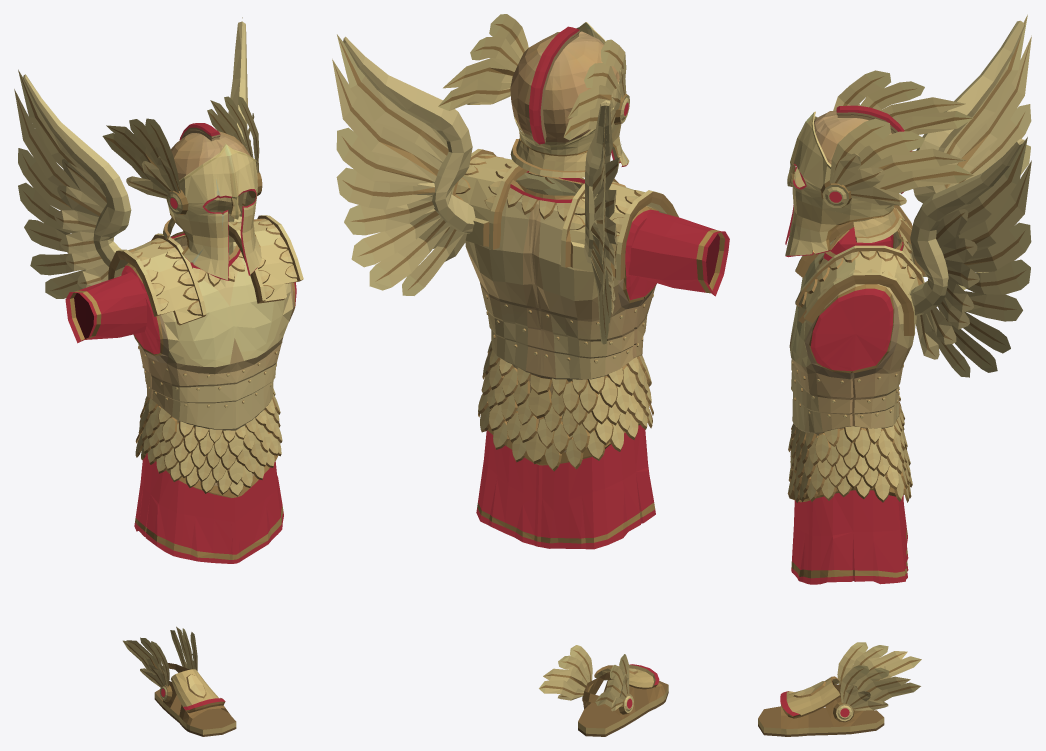
The model's file is greekWingedWarrior.glb.
3 renders of one model, left to right at view 1: azimuth 30°, elevation 25°; view 2: azimuth 150°, elevation 25°; view 3: azimuth 270°, elevation 25°, orthographic. The views are drawn at different scales.
Visible parts, largest first — view 1: greekWingedWarriorBody, greekWingedWarriorHelmet, greekWingedWarriorShoes, greekWingedWarriorUpperArm; view 2: greekWingedWarriorBody, greekWingedWarriorHelmet, greekWingedWarriorShoes, greekWingedWarriorUpperArm; view 3: greekWingedWarriorBody, greekWingedWarriorHelmet, greekWingedWarriorShoes, greekWingedWarriorUpperArm.
Boxes of the visible parts, left/top/right/bottom form: greekWingedWarriorBody: left=14, top=17, right=303, bottom=563; greekWingedWarriorHelmet: left=102, top=96, right=262, bottom=280; greekWingedWarriorShoes: left=123, top=626, right=236, bottom=736; greekWingedWarriorUpperArm: left=65, top=272, right=146, bottom=343; greekWingedWarriorBody: left=332, top=34, right=678, bottom=549; greekWingedWarriorHelmet: left=438, top=14, right=629, bottom=177; greekWingedWarriorShoes: left=539, top=645, right=668, bottom=736; greekWingedWarriorUpperArm: left=628, top=210, right=729, bottom=296; greekWingedWarriorBody: left=787, top=14, right=1031, bottom=584; greekWingedWarriorHelmet: left=785, top=70, right=973, bottom=257; greekWingedWarriorShoes: left=758, top=642, right=921, bottom=736; greekWingedWarriorUpperArm: left=830, top=227, right=891, bottom=254.
Size of the model in its own units: 0.8973 by 2.09 by 0.7795.
